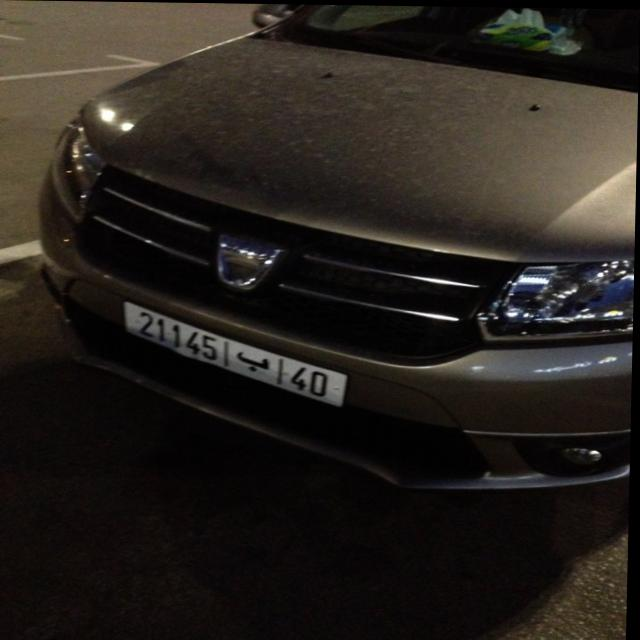License-Plate: (125, 302, 349, 405)
